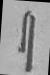S29: (2, 0, 48, 74)
